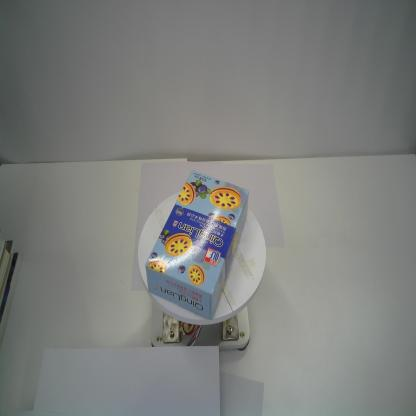Dessert: (145, 169, 249, 322)
